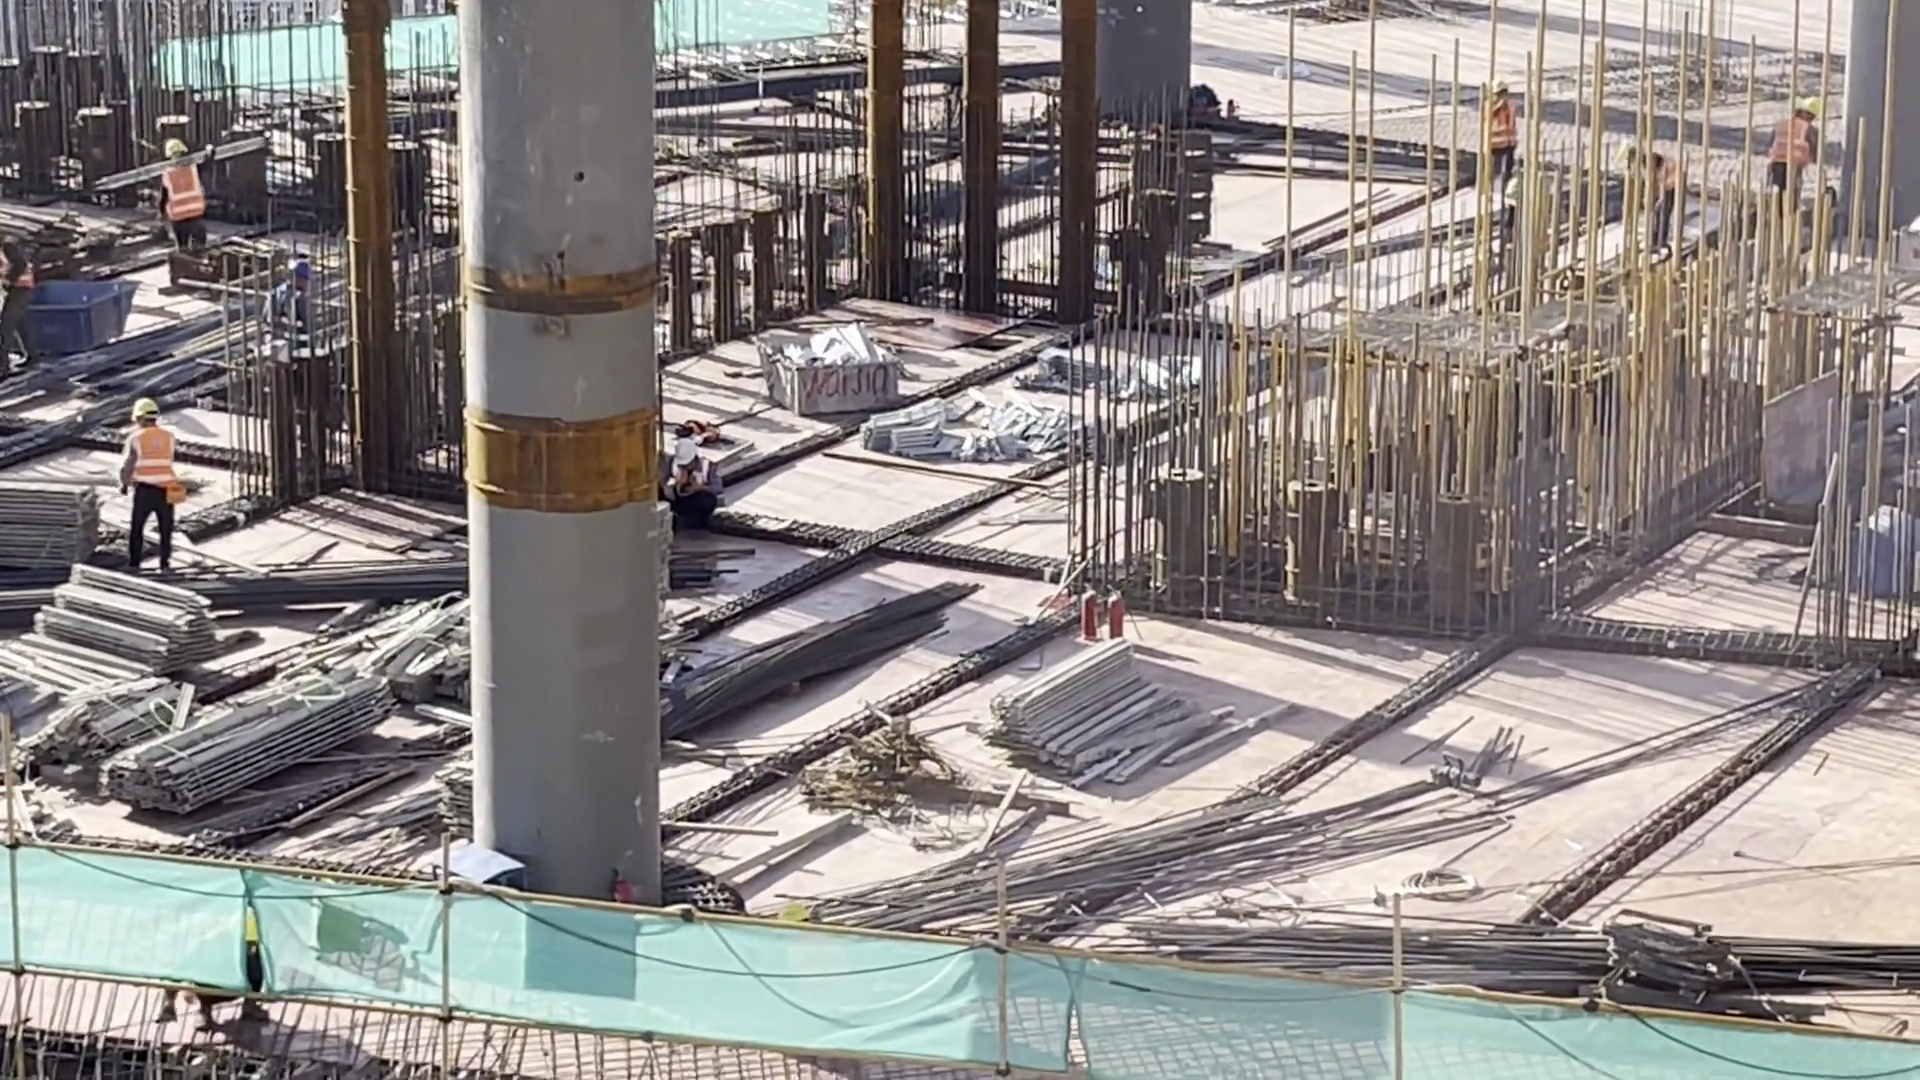helmet: (160, 137, 199, 157), (671, 442, 699, 467), (1489, 65, 1511, 91), (132, 397, 156, 419)
hopper: (755, 308, 908, 413), (1, 257, 138, 364)
person: (111, 389, 182, 557), (651, 428, 741, 548), (149, 127, 218, 271), (1767, 79, 1830, 222), (1484, 75, 1540, 195)
vest: (121, 422, 178, 498), (160, 154, 204, 222), (1774, 112, 1807, 176), (1488, 98, 1512, 150)
wood: (84, 663, 396, 823), (995, 635, 1182, 790), (48, 549, 222, 680), (1, 479, 78, 578)
